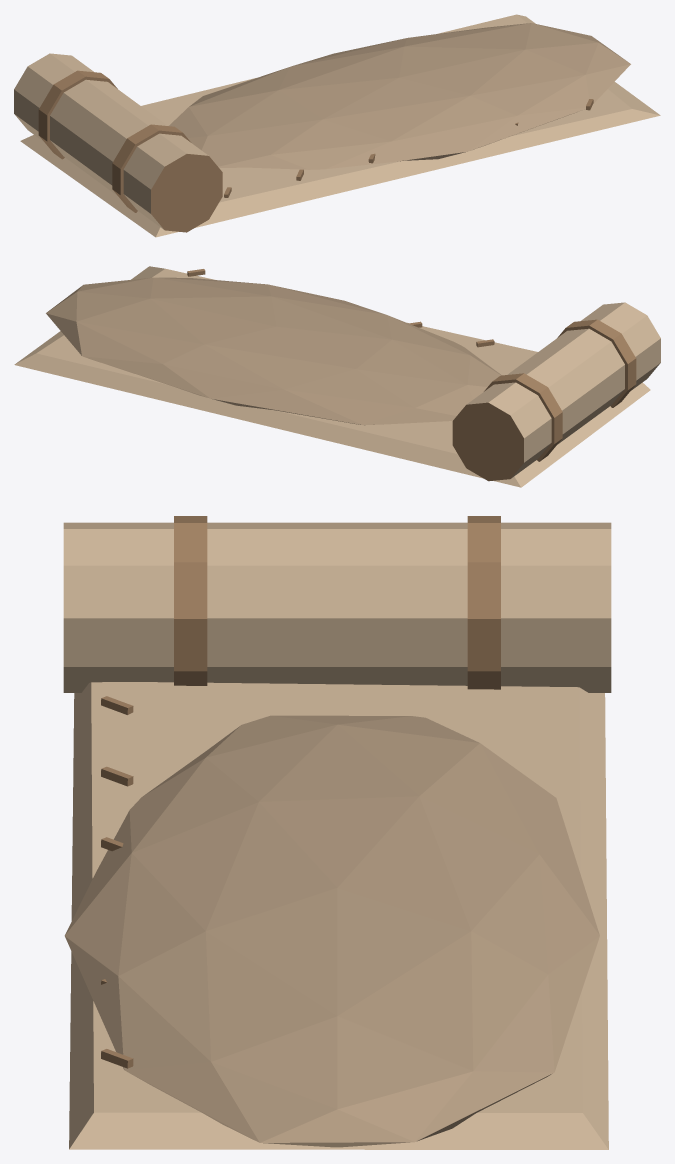
File: bedroll.glb
3 views of the same model, one above another, from view 1: azimuth 30°, elevation 25°; view 2: azimuth 150°, elevation 25°; view 3: azimuth 270°, elevation 25° (orthographic). The views are drawn at different scales.
Visible parts, largest first — view 1: bedroll; view 2: bedroll; view 3: bedroll.
Part boxes in pixels (left/top/right/bottom): bedroll: left=14, top=14, right=660, bottom=237; bedroll: left=14, top=266, right=660, bottom=487; bedroll: left=63, top=516, right=611, bottom=1149.
Size of the model in its own units: 1.84 by 0.27 by 0.82.
